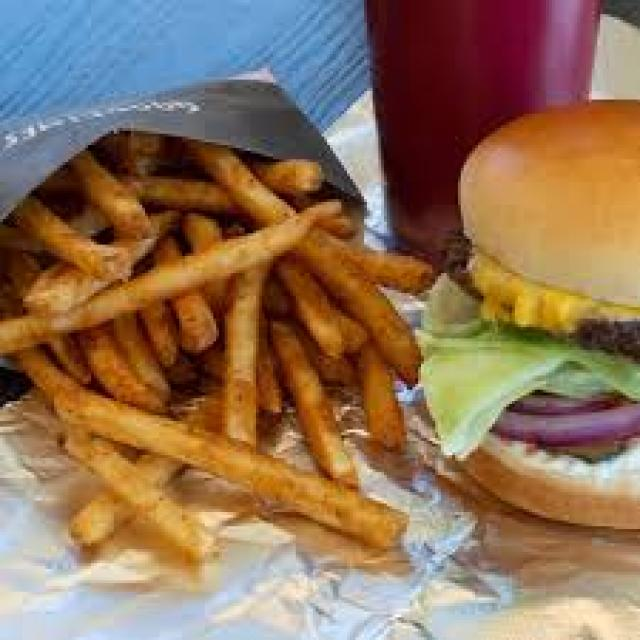Burger: (418, 86, 637, 540)
French Fries: (0, 113, 427, 582)
